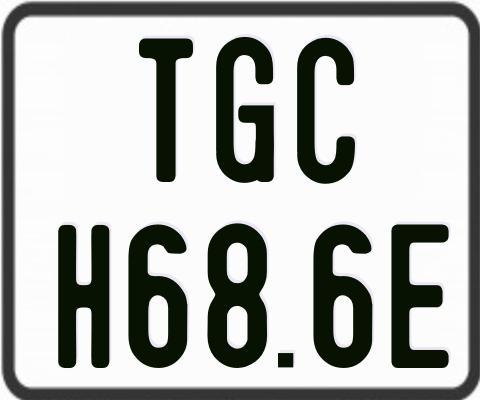6: (125, 222, 188, 371), (311, 222, 374, 371)
8: (204, 223, 270, 373)
C: (295, 35, 354, 187)
E: (390, 223, 451, 371)
G: (215, 37, 273, 188)
H: (57, 223, 109, 372)
T: (138, 36, 193, 180)
